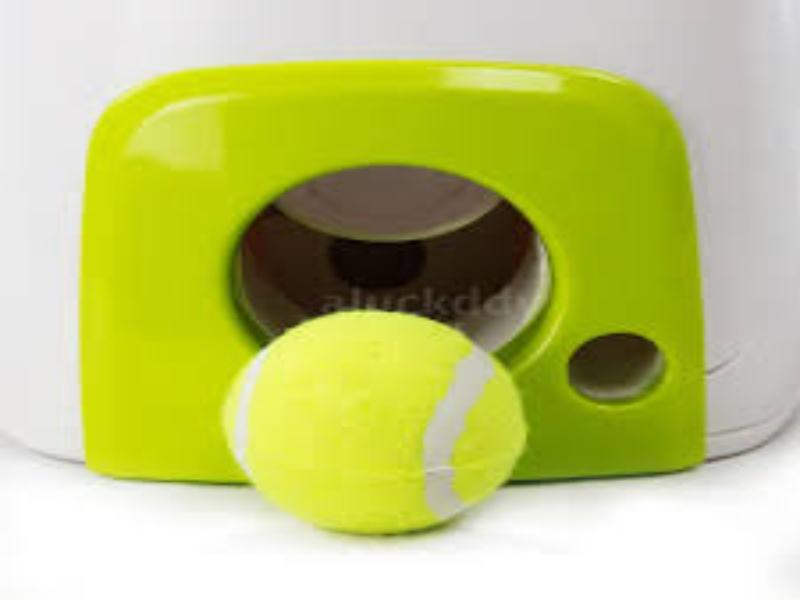tennis ball: (204, 290, 541, 545)
